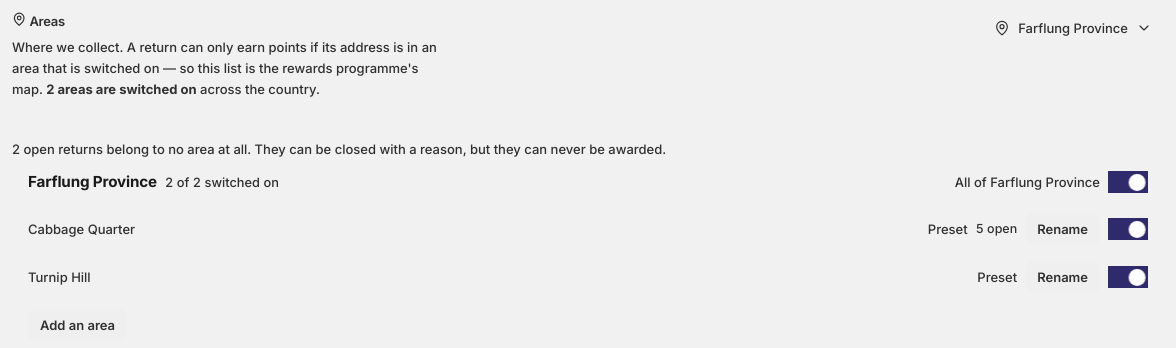
the areas an owner manages › swaps the page to the state the picker names
Expected: the text "Cabbage Quarter" is shown, x1=28 y1=221 x2=135 y2=237
Click the button with aria-label "State:" at (1073, 28), box x1=982 y1=12 x2=1164 y2=44
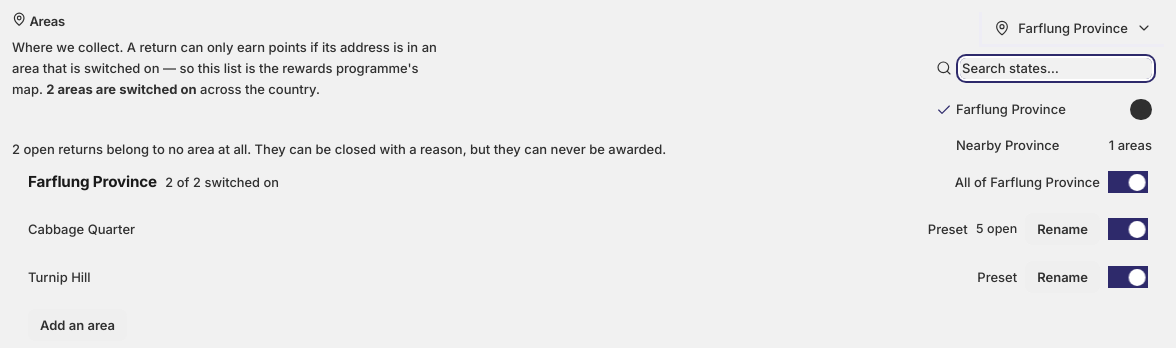
Click the option "Nearby Province 1 areas" at (1044, 146), box x1=928 y1=128 x2=1160 y2=163
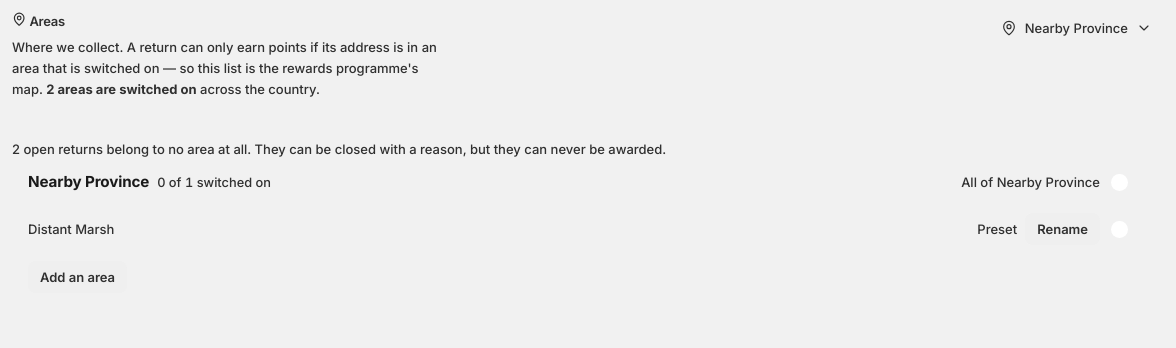
Now the text "Distant Marsh" is shown, box x1=28 y1=221 x2=114 y2=237
Now the text "0 of 1 switched on" is shown, box x1=157 y1=174 x2=271 y2=192
Now the text "Cabbage Quarter" is gone
